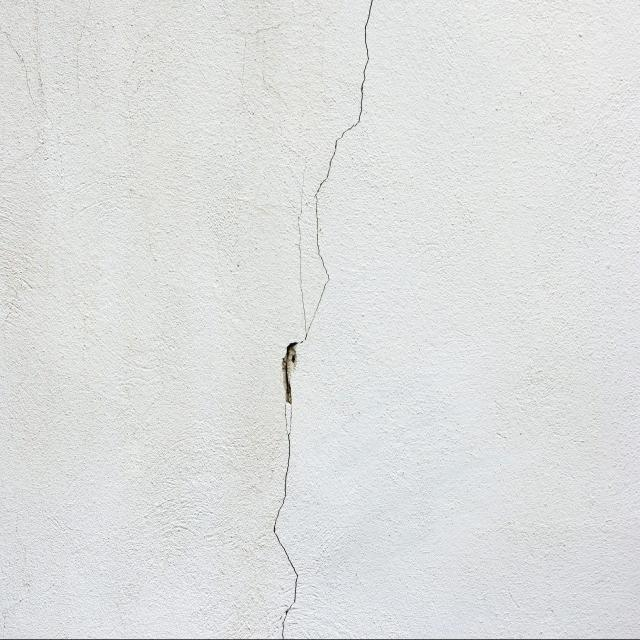Crack: (271, 0, 371, 639)
